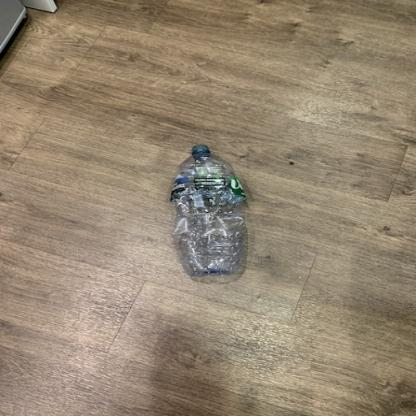trash: (168, 140, 249, 278)
